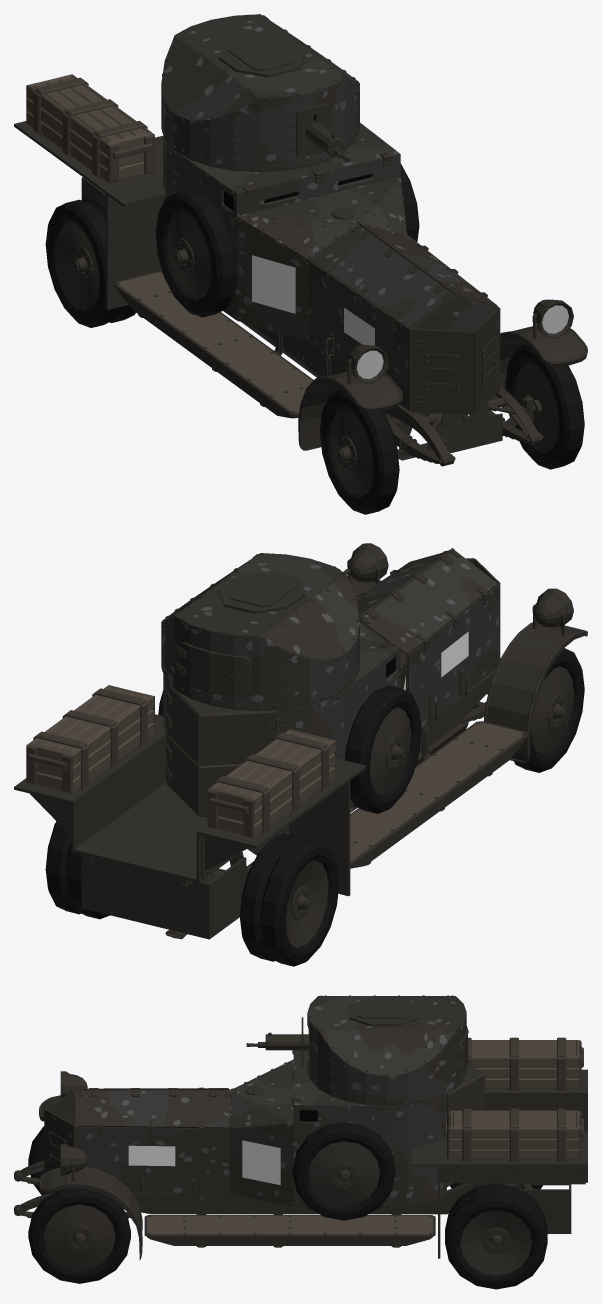
The model's file is Veh_RollsRoyce-ArmoredCar_01.fbx.
The picture shows the model from 3 angles, top to bottom: view 1: azimuth 30°, elevation 25°; view 2: azimuth 150°, elevation 25°; view 3: azimuth 270°, elevation 25°; orthographic projection. The views are drawn at different scales.
Parts seen in each view (by area): view 1: Veh_RollsRoyce-ArmoredCar_01_LOD0, Veh_RollsRoyce-ArmoredCar_01_Tower_01_LOD0, Veh_RollsRoyce-ArmoredCar_01_Wheel_R_01_LOD0, Veh_RollsRoyce-ArmoredCar_01_Wheel_R_02_LOD0, Veh_RollsRoyce-ArmoredCar_01_Wheel_L_01_LOD0, Veh_RollsRoyce-ArmoredCar_Decal_01_LOD0, Veh_RollsRoyce-ArmoredCar_01_Gun_01_LOD0; view 2: Veh_RollsRoyce-ArmoredCar_01_LOD0, Veh_RollsRoyce-ArmoredCar_01_Tower_01_LOD0, Veh_RollsRoyce-ArmoredCar_01_Wheel_R_02_LOD0, Veh_RollsRoyce-ArmoredCar_01_Wheel_R_01_LOD0, Veh_RollsRoyce-ArmoredCar_01_Wheel_L_02_LOD0, Veh_RollsRoyce-ArmoredCar_Decal_01_LOD0; view 3: Veh_RollsRoyce-ArmoredCar_01_LOD0, Veh_RollsRoyce-ArmoredCar_01_Tower_01_LOD0, Veh_RollsRoyce-ArmoredCar_01_Wheel_L_02_LOD0, Veh_RollsRoyce-ArmoredCar_01_Wheel_L_01_LOD0, Veh_RollsRoyce-ArmoredCar_Decal_01_LOD0, Veh_RollsRoyce-ArmoredCar_01_Gun_01_LOD0, Veh_RollsRoyce-ArmoredCar_01_Wheel_R_01_LOD0.
Part boxes in pixels (x1,y1,x2,y2): Veh_RollsRoyce-ArmoredCar_01_LOD0: [14, 74, 587, 466]; Veh_RollsRoyce-ArmoredCar_01_Tower_01_LOD0: [161, 14, 359, 170]; Veh_RollsRoyce-ArmoredCar_01_Wheel_R_01_LOD0: [320, 389, 399, 514]; Veh_RollsRoyce-ArmoredCar_01_Wheel_R_02_LOD0: [45, 194, 135, 327]; Veh_RollsRoyce-ArmoredCar_01_Wheel_L_01_LOD0: [505, 344, 584, 469]; Veh_RollsRoyce-ArmoredCar_Decal_01_LOD0: [252, 255, 374, 345]; Veh_RollsRoyce-ArmoredCar_01_Gun_01_LOD0: [296, 103, 350, 162]; Veh_RollsRoyce-ArmoredCar_01_LOD0: [14, 543, 587, 939]; Veh_RollsRoyce-ArmoredCar_01_Tower_01_LOD0: [161, 553, 359, 709]; Veh_RollsRoyce-ArmoredCar_01_Wheel_R_02_LOD0: [239, 833, 339, 966]; Veh_RollsRoyce-ArmoredCar_01_Wheel_R_01_LOD0: [514, 648, 584, 772]; Veh_RollsRoyce-ArmoredCar_01_Wheel_L_02_LOD0: [45, 821, 109, 919]; Veh_RollsRoyce-ArmoredCar_Decal_01_LOD0: [403, 631, 468, 690]; Veh_RollsRoyce-ArmoredCar_01_LOD0: [14, 1037, 587, 1259]; Veh_RollsRoyce-ArmoredCar_01_Tower_01_LOD0: [307, 995, 468, 1104]; Veh_RollsRoyce-ArmoredCar_01_Wheel_L_02_LOD0: [445, 1183, 547, 1289]; Veh_RollsRoyce-ArmoredCar_01_Wheel_L_01_LOD0: [28, 1187, 130, 1283]; Veh_RollsRoyce-ArmoredCar_Decal_01_LOD0: [128, 1140, 280, 1185]; Veh_RollsRoyce-ArmoredCar_01_Gun_01_LOD0: [246, 1017, 308, 1065]; Veh_RollsRoyce-ArmoredCar_01_Wheel_R_01_LOD0: [28, 1126, 55, 1195].
Size of what is drawn, in the model's own units: 171 by 198 by 437.
